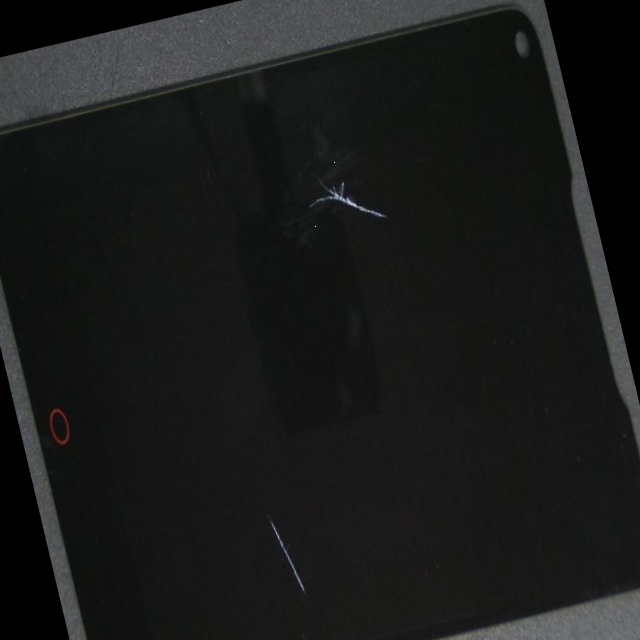scratch: (66, 209, 420, 640), (103, 18, 488, 329)
